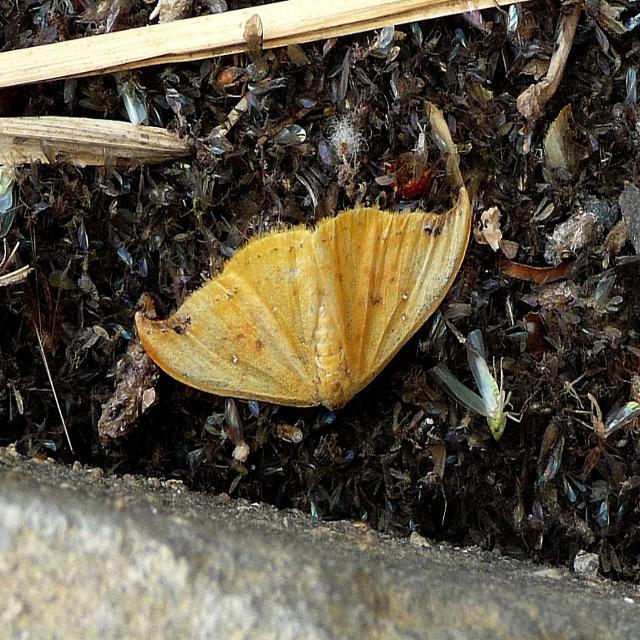Moths and butterflies: (129, 184, 476, 422)
